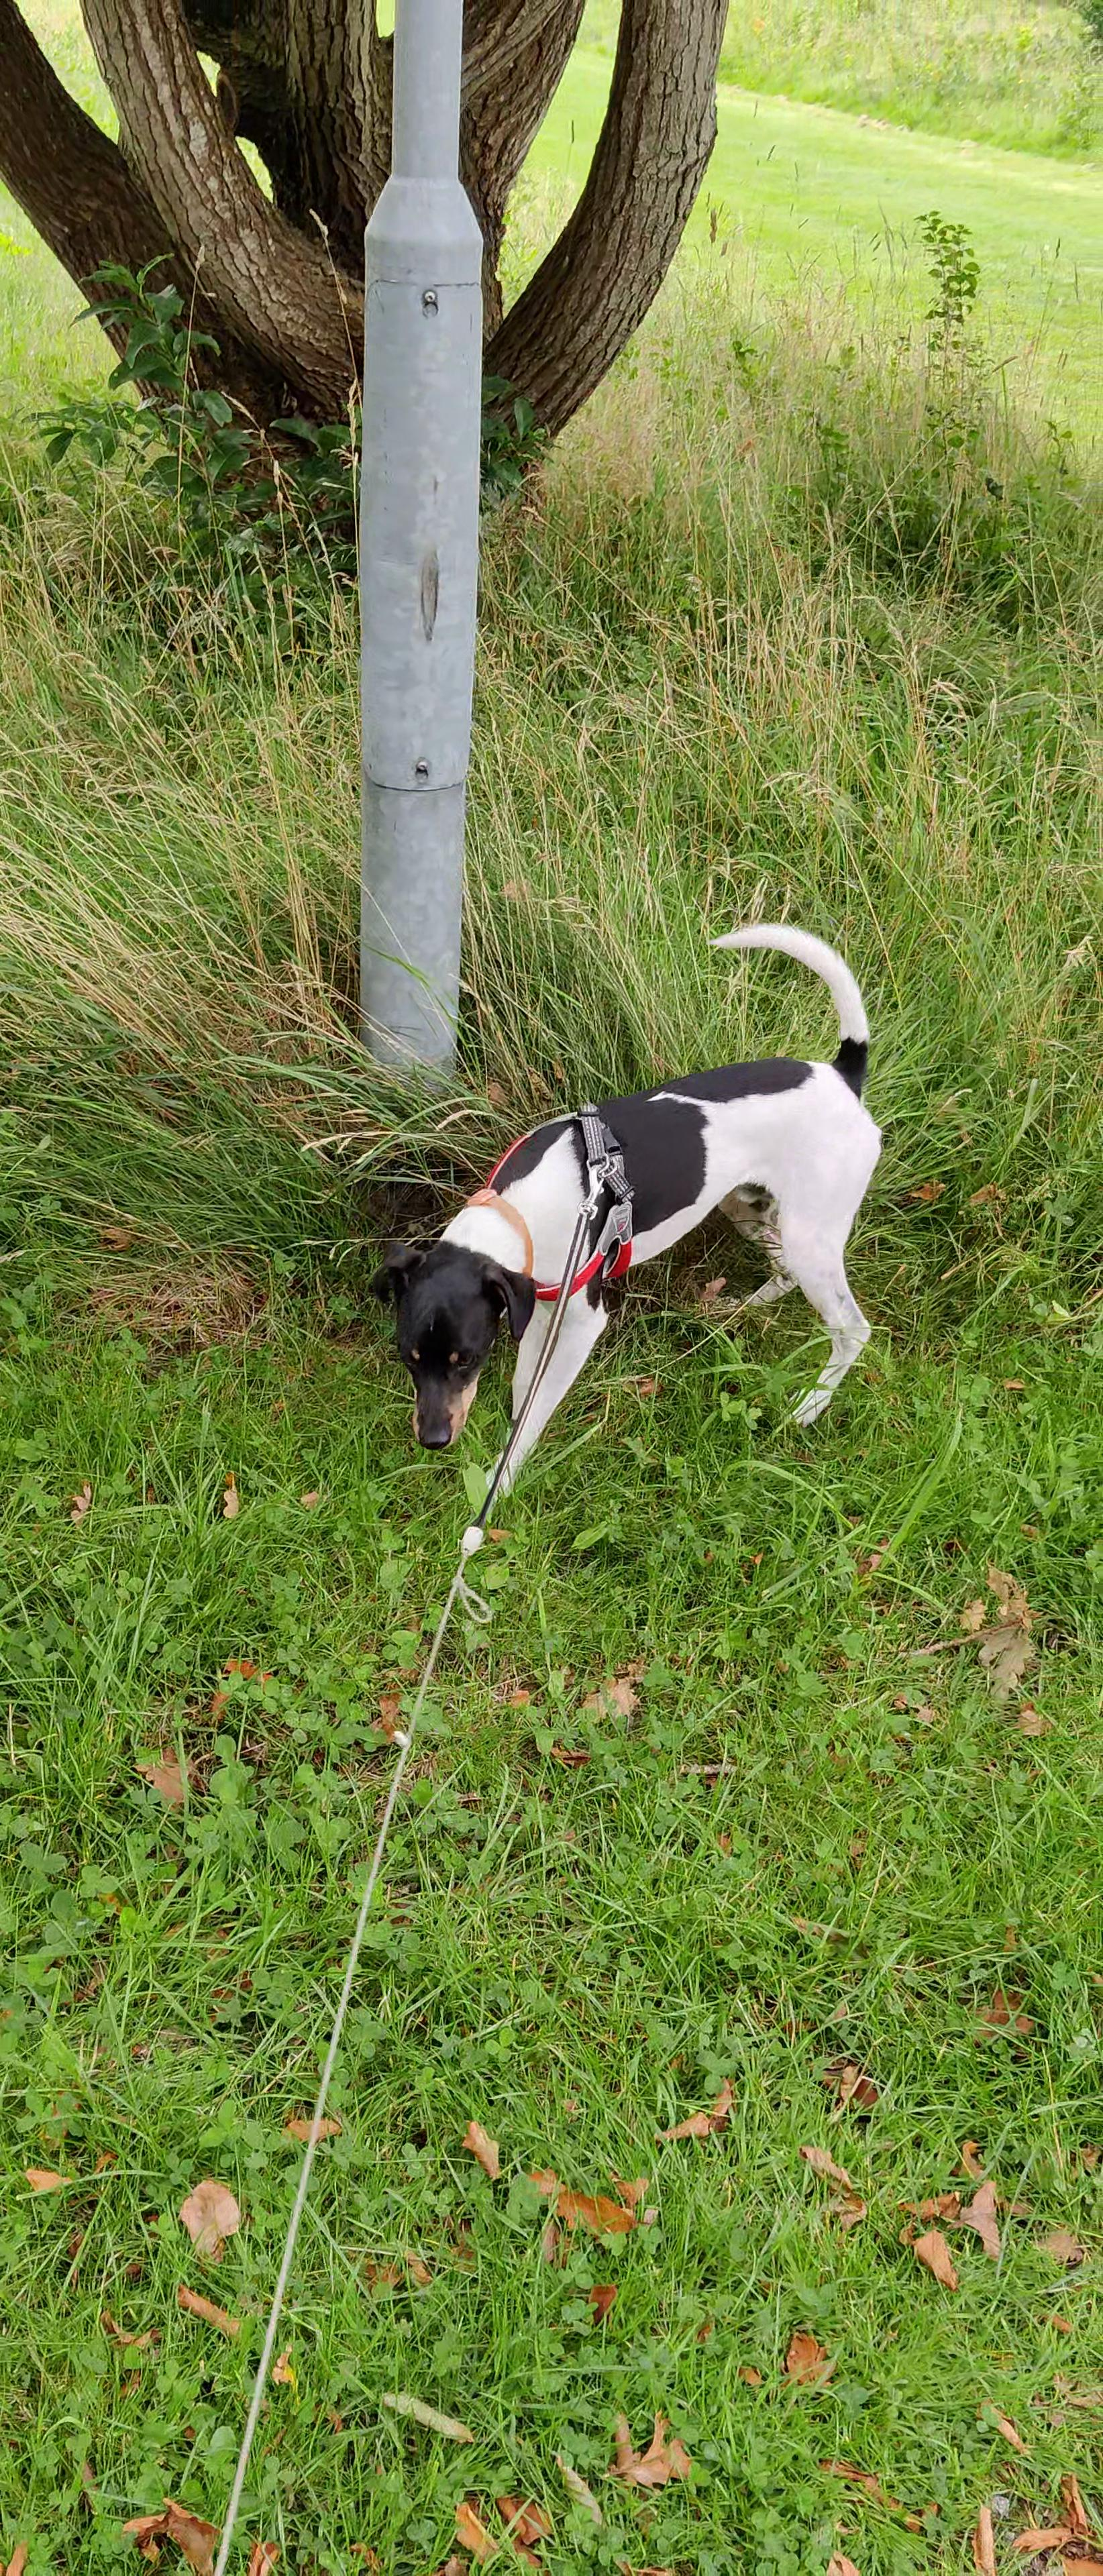Dog: (358, 912, 884, 1513)
